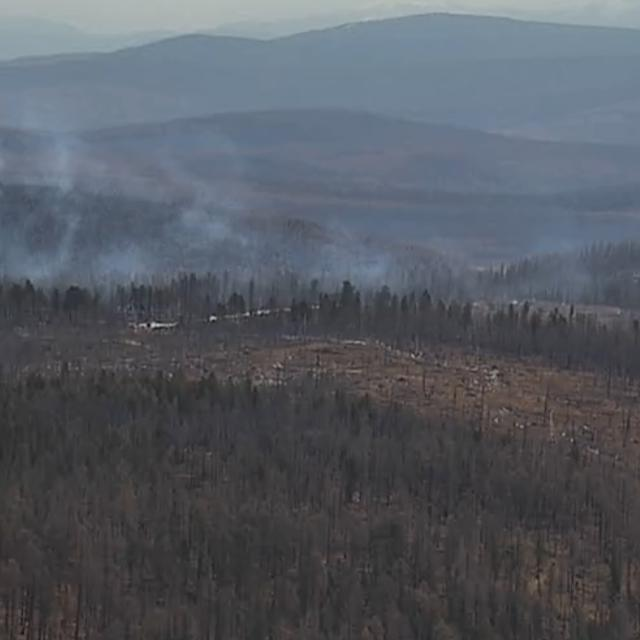Smoke: (0, 137, 423, 283)
